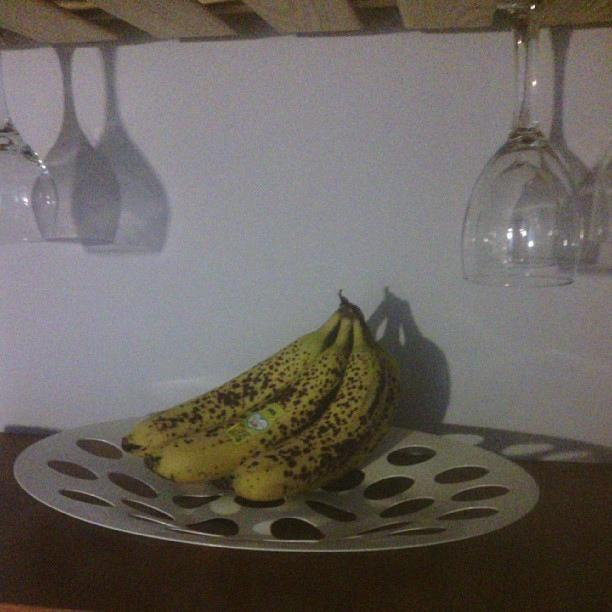banana: (144, 306, 355, 483), (122, 302, 348, 459), (230, 306, 388, 500)
